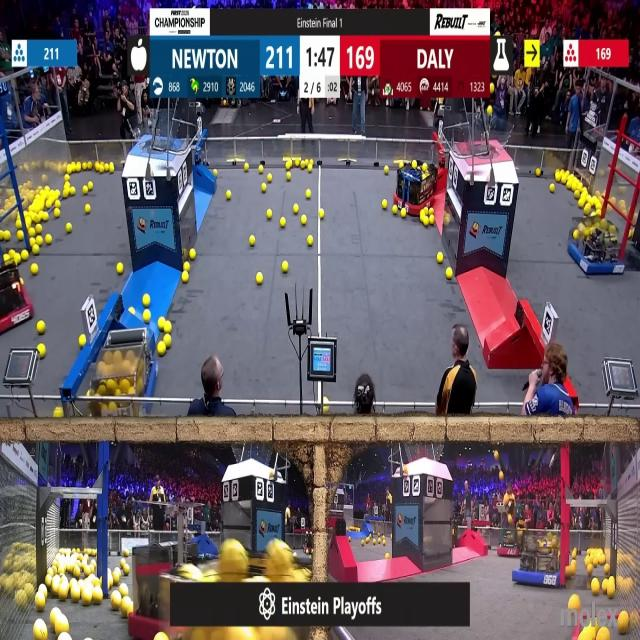ball_airborne: (490, 85, 495, 95), (488, 106, 493, 114)
ball_ground: (110, 594, 120, 610), (569, 595, 579, 610), (70, 589, 80, 603), (592, 581, 600, 596), (38, 344, 46, 359), (37, 321, 45, 334), (142, 293, 150, 306), (607, 585, 614, 599), (143, 310, 150, 323), (78, 336, 85, 349), (55, 409, 64, 419), (255, 273, 262, 285), (30, 266, 38, 276), (438, 252, 446, 262), (446, 269, 453, 280), (181, 273, 188, 284), (188, 249, 195, 260), (22, 250, 29, 260), (116, 265, 123, 275), (282, 263, 288, 274), (249, 236, 255, 247), (83, 204, 90, 213), (306, 188, 312, 198), (280, 217, 286, 227), (318, 209, 324, 219), (120, 266, 126, 276), (186, 271, 191, 282), (309, 236, 314, 247), (66, 223, 72, 232), (399, 209, 405, 218), (16, 232, 22, 241), (33, 246, 39, 255), (588, 564, 594, 573), (45, 236, 51, 245), (392, 206, 397, 216), (268, 209, 273, 219), (64, 188, 69, 198), (183, 264, 189, 272), (55, 209, 61, 217), (286, 172, 292, 180), (225, 190, 230, 199), (56, 200, 61, 208), (262, 183, 266, 193), (89, 182, 94, 190), (557, 172, 561, 182), (384, 167, 388, 176), (536, 169, 540, 178), (324, 407, 328, 416), (83, 185, 87, 194), (386, 553, 390, 561), (44, 212, 48, 220), (269, 174, 273, 182), (186, 265, 192, 270), (258, 167, 262, 174), (309, 167, 313, 173)
goal: (460, 116, 515, 158), (129, 117, 185, 152)
robot_blue: (569, 217, 626, 276), (514, 531, 560, 589)
robot_red: (133, 546, 213, 639), (1, 257, 31, 332), (396, 161, 437, 212), (498, 528, 521, 555)
